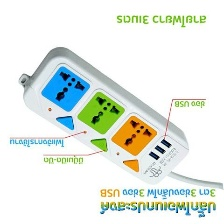three_eye_plug: (18, 44, 196, 188)
